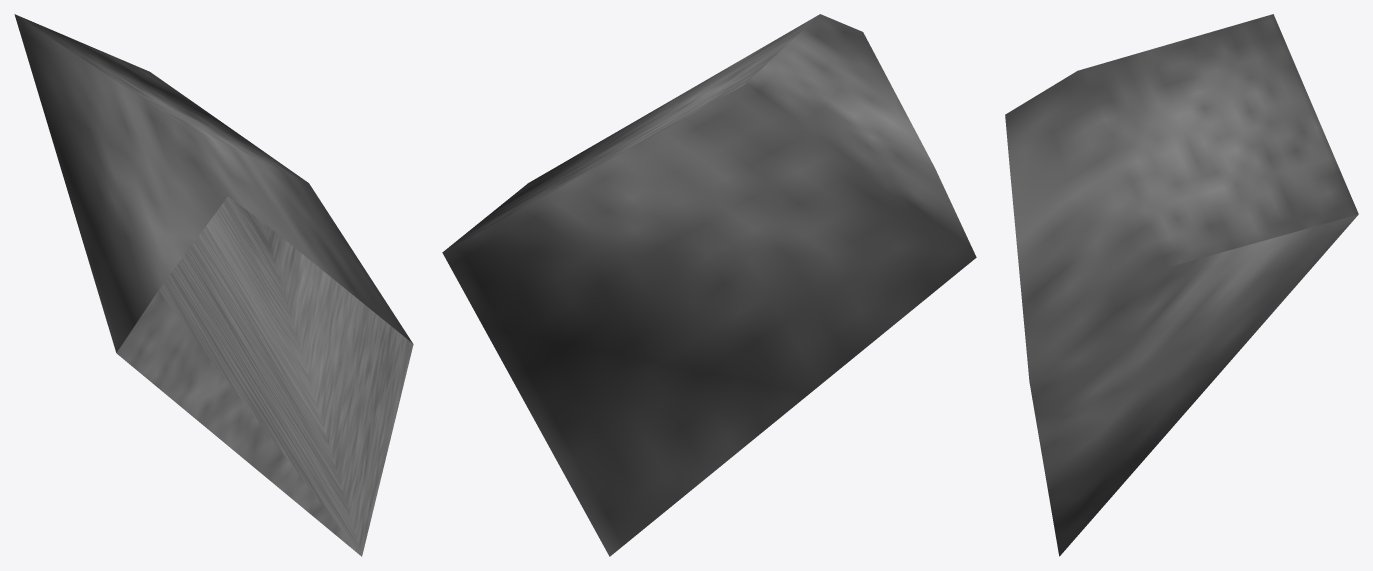
The model's file is body_cell_063.fbx.
3 renders of one model, left to right at view 1: azimuth 30°, elevation 25°; view 2: azimuth 150°, elevation 25°; view 3: azimuth 270°, elevation 25°, orthographic. The views are drawn at different scales.
Visible parts, largest first — view 1: body_cell.063; view 2: body_cell.063; view 3: body_cell.063.
Boxes of the visible parts, box(x1,y1,x2,y2) form: body_cell.063: box(14, 14, 413, 556); body_cell.063: box(442, 14, 976, 556); body_cell.063: box(1005, 14, 1358, 556).
Bounding box in the file's own units: 4.92 × 7.99 × 5.74.
